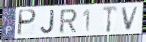1: (82, 9, 91, 33)
J: (40, 9, 55, 35)
P: (16, 9, 38, 37)
R: (59, 8, 79, 34)
T: (102, 6, 119, 33)
V: (121, 5, 141, 32)
